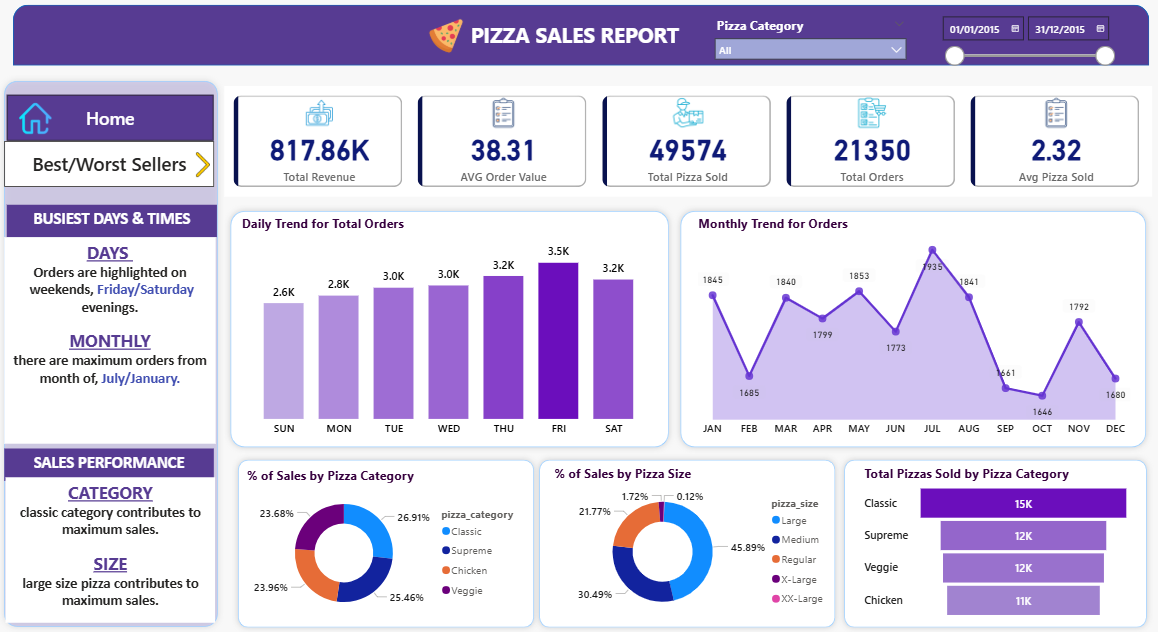

This screenshot's page, from the dashboard's own definition file:
{"tool":"powerbi","page":{"name":"Home","canvas":[1500,820],"ordinal":0},"visuals":[{"type":"shape","box":[0,102,290.7,718.3],"z":0},{"type":"cardVisual","fields":{"Data":["pizza_sales.Total Revenue","pizza_sales.AVG Order Value","pizza_sales.Total Pizza Sold","pizza_sales.Total Orders","pizza_sales.Avg Pizza Sold"]},"box":[290.7,116,1193.4,142.5],"z":1000},{"type":"shape","box":[19.6,11.2,1461.7,78.3],"z":2000},{"type":"textbox","box":[603.7,27.9,293.5,47.5],"z":3000},{"type":"image","box":[550.6,29.3,53.1,44.7],"z":4000},{"type":"shape","box":[290.7,268.3,579.9,320],"z":5000},{"type":"columnChart","title":"Daily Trend for Total Orders","fields":{"Category":["pizza_sales.Order Day"],"Y":["pizza_sales.Total Orders"]},"box":[308.8,280.9,543.6,294.9],"z":6000},{"type":"shape","box":[870.6,268.3,614.9,320],"z":7000},{"type":"areaChart","title":"Monthly Trend for Orders","fields":{"Category":["pizza_sales.Order Month"],"Y":["pizza_sales.Total Orders"]},"box":[895.7,280.9,566,294.9],"z":8000},{"type":"shape","box":[300.4,588.3,396.9,232],"z":9000},{"type":"shape","box":[688.9,588.3,396.9,232],"z":10000},{"type":"shape","box":[1080.2,588.3,405.3,232],"z":11000},{"type":"donutChart","title":"% of Sales by Pizza Category","fields":{"Category":["pizza_sales.pizza_category"],"Y":["pizza_sales.Total Revenue"]},"box":[314.4,605.1,368.9,202.6],"z":12000},{"type":"donutChart","title":"% of Sales by Pizza Size","fields":{"Y":["pizza_sales.Total Revenue"],"Category":["pizza_sales.pizza_size"]},"box":[711.3,603.7,368.9,202.6],"z":13000},{"type":"funnel","title":"Total Pizzas Sold by Pizza Category","fields":{"Category":["pizza_sales.pizza_category"],"Y":["pizza_sales.Total Pizza Sold"]},"box":[1109.5,603.7,352.1,202.6],"z":14000},{"type":"textbox","box":[11.3,268.5,270.2,41.8],"z":15000},{"type":"textbox","box":[8,310.4,271.8,265.3],"z":16000},{"type":"textbox","box":[8.4,582.7,269.7,41.9],"z":17000},{"type":"textbox","box":[9.8,619.1,269.7,187.3],"z":18000},{"type":"slicer","fields":{"Values":["pizza_sales.pizza_category"]},"box":[912.5,21,266.9,68.5],"z":18001},{"type":"slicer","fields":{"Values":["pizza_sales.order_date"]},"box":[1203.2,15.4,243.2,81.1],"z":18002},{"type":"pageNavigator","box":[11.3,127,266.9,59.5],"z":18003},{"type":"pageNavigator","box":[8,186.5,270.2,59.5],"z":18004},{"type":"image","box":[218.7,201,90.1,32.2],"z":18005},{"type":"image","box":[8,136.7,80.4,41.8],"z":18006}]}

Visuals, with their boxes in screenshot pixels (x1, y1, x2, y2), scaled from the page's 1500x820 canvas onto the 1158x632 screenshot:
shape: 0:79:224:631
cardVisual - pizza_sales.Total Revenue x pizza_sales.AVG Order Value: 224:89:1146:199
shape: 15:9:1144:69
textbox: 466:22:693:58
image: 425:23:466:57
shape: 224:207:672:453
"Daily Trend for Total Orders" columnChart: 238:216:658:444
shape: 672:207:1147:453
"Monthly Trend for Orders" areaChart: 691:216:1128:444
shape: 232:453:538:631
shape: 532:453:838:631
shape: 834:453:1147:631
"% of Sales by Pizza Category" donutChart: 243:466:528:623
"% of Sales by Pizza Size" donutChart: 549:465:834:621
"Total Pizzas Sold by Pizza Category" funnel: 857:465:1128:621
textbox: 9:207:217:239
textbox: 6:239:216:444
textbox: 6:449:215:481
textbox: 8:477:216:622
slicer - pizza_sales.pizza_category: 704:16:910:69
slicer - pizza_sales.order_date: 929:12:1117:74
pageNavigator: 9:98:215:144
pageNavigator: 6:144:215:190
image: 169:155:238:180
image: 6:105:68:138
